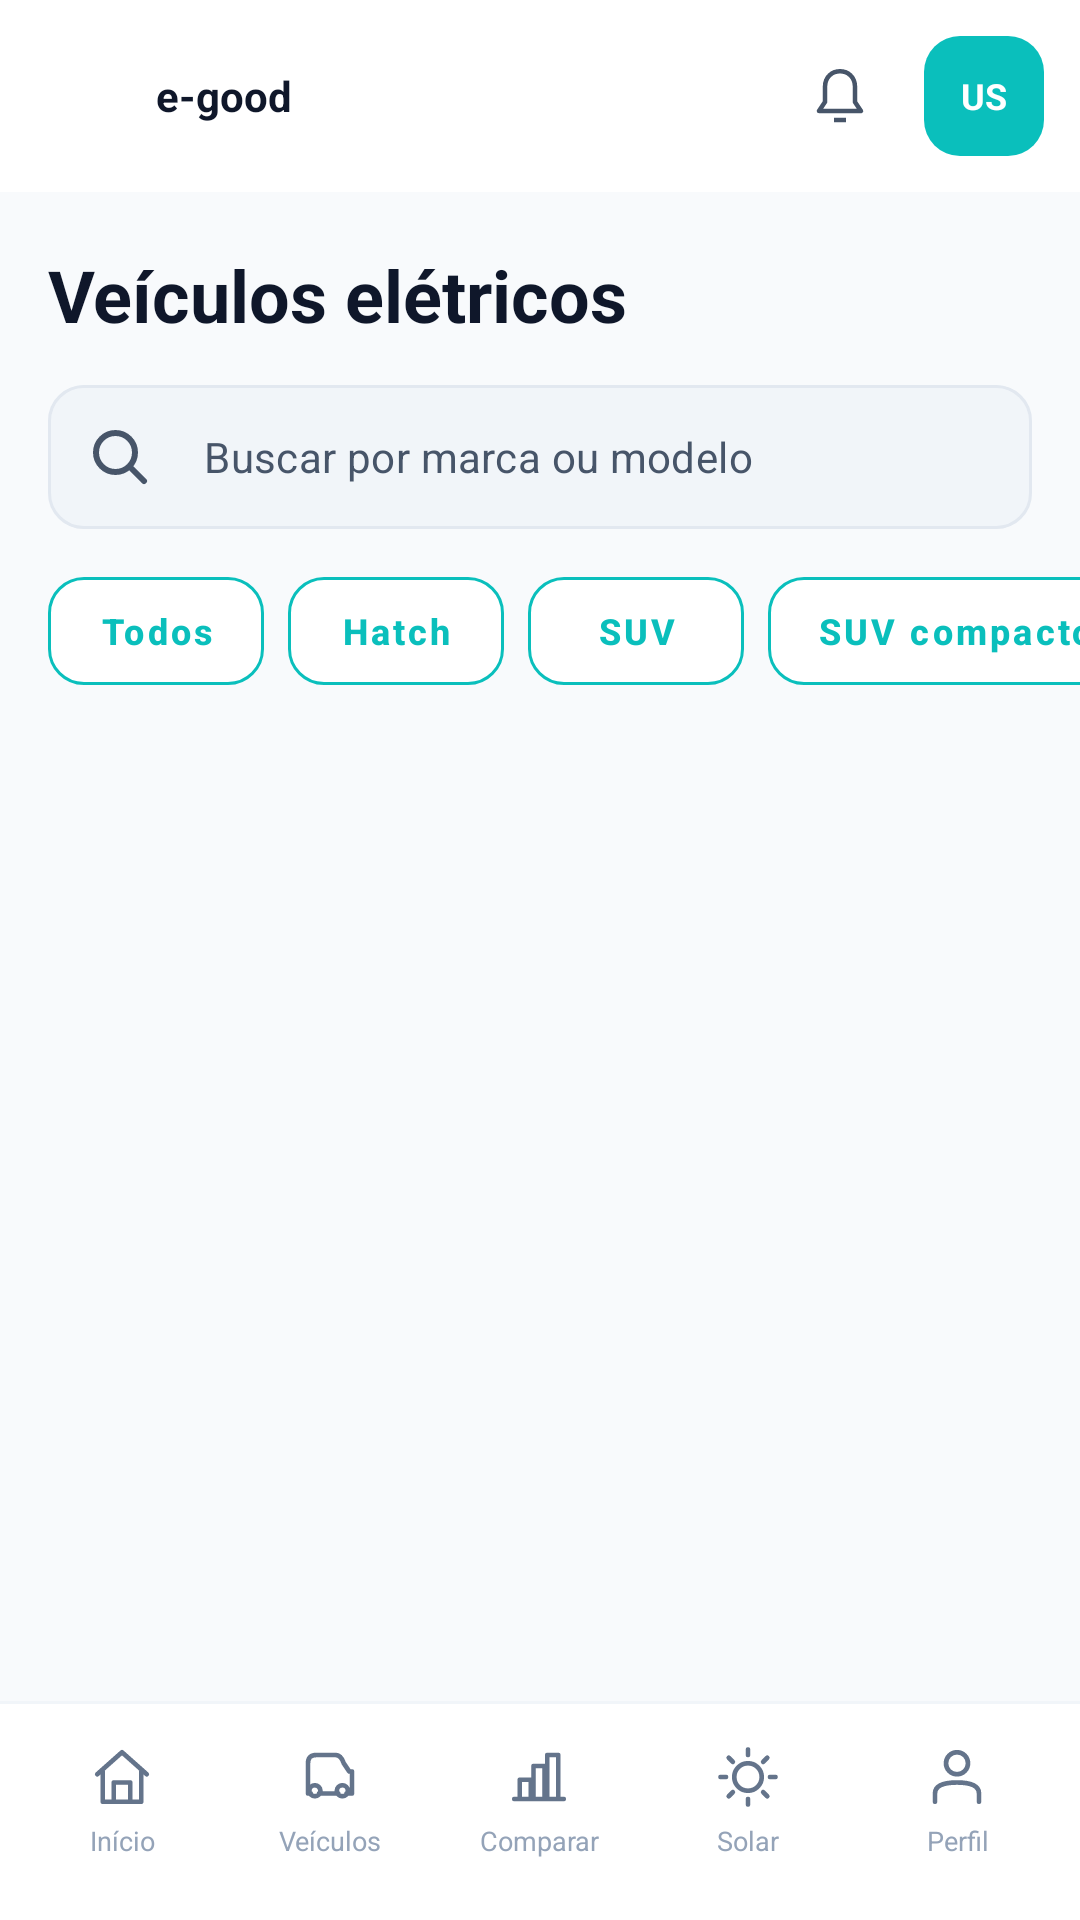

Icons on this 1080px×1920px Android screen, each with the point to tap as [x,y]:
Notificações: [840,96]
